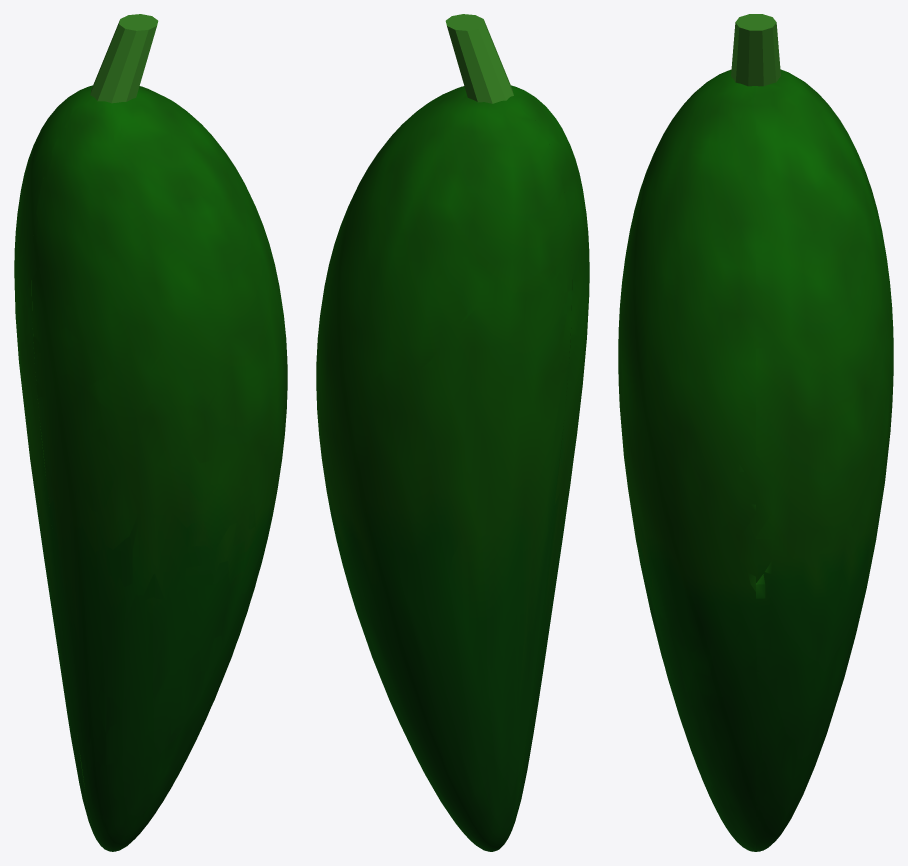
File: piment-vert.glb
3 renders of one model, left to right at view 1: azimuth 30°, elevation 25°; view 2: azimuth 150°, elevation 25°; view 3: azimuth 270°, elevation 25°, orthographic. The views are drawn at different scales.
Parts seen in each view (by area): view 1: moitie_B_peau, entier_peau, moitie_A_peau, entier_extra0; view 2: moitie_A_peau, entier_peau, moitie_B_peau, entier_extra0; view 3: entier_peau, moitie_A_peau, moitie_B_peau, entier_extra0.
Boxes of the visible parts, x1,y1,x2,y2 form: moitie_B_peau: (32, 88, 287, 851); entier_peau: (15, 86, 287, 851); moitie_A_peau: (14, 85, 173, 839); entier_extra0: (90, 14, 158, 103); moitie_A_peau: (316, 88, 571, 851); entier_peau: (316, 86, 589, 851); moitie_B_peau: (430, 85, 589, 840); entier_extra0: (445, 14, 513, 103); entier_peau: (618, 71, 893, 851); moitie_A_peau: (756, 69, 893, 851); moitie_B_peau: (618, 69, 755, 851); entier_extra0: (731, 14, 780, 86).
Bounding box in the file's own units: 0.6546 × 2.16 × 0.6412.
